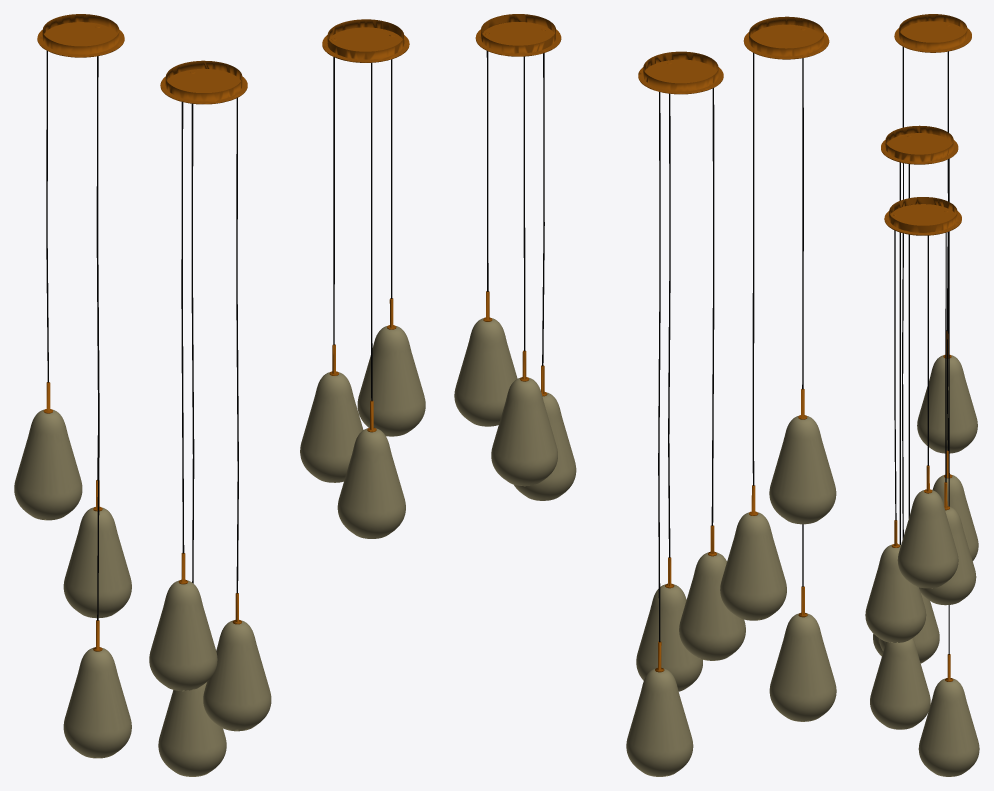
Rendered from anoli_3_pendant_lamp_3ds_max_file_drcg.glb.
The picture shows the model from 3 angles, left to right: view 1: azimuth 30°, elevation 25°; view 2: azimuth 150°, elevation 25°; view 3: azimuth 270°, elevation 25°; orthographic projection. The views are drawn at different scales.
Parts seen in each view (by area): view 1: Object_9, Object_4, Object_8; view 2: Object_9, Object_4, Object_8; view 3: Object_9, Object_4, Object_8.
Boxes of the visible parts, box(x1,y1,x2,y2) form: Object_9: box(14, 326, 425, 776); Object_4: box(37, 14, 409, 651); Object_8: box(46, 51, 392, 620); Object_9: box(454, 318, 836, 776); Object_4: box(475, 14, 829, 672); Object_8: box(486, 51, 803, 642); Object_9: box(865, 355, 979, 776); Object_4: box(881, 14, 971, 681); Object_8: box(894, 47, 949, 654).
Bounding box in the file's own units: 1.22 × 2.3 × 0.3457.
Materials: 5 (5 with a texture image).
